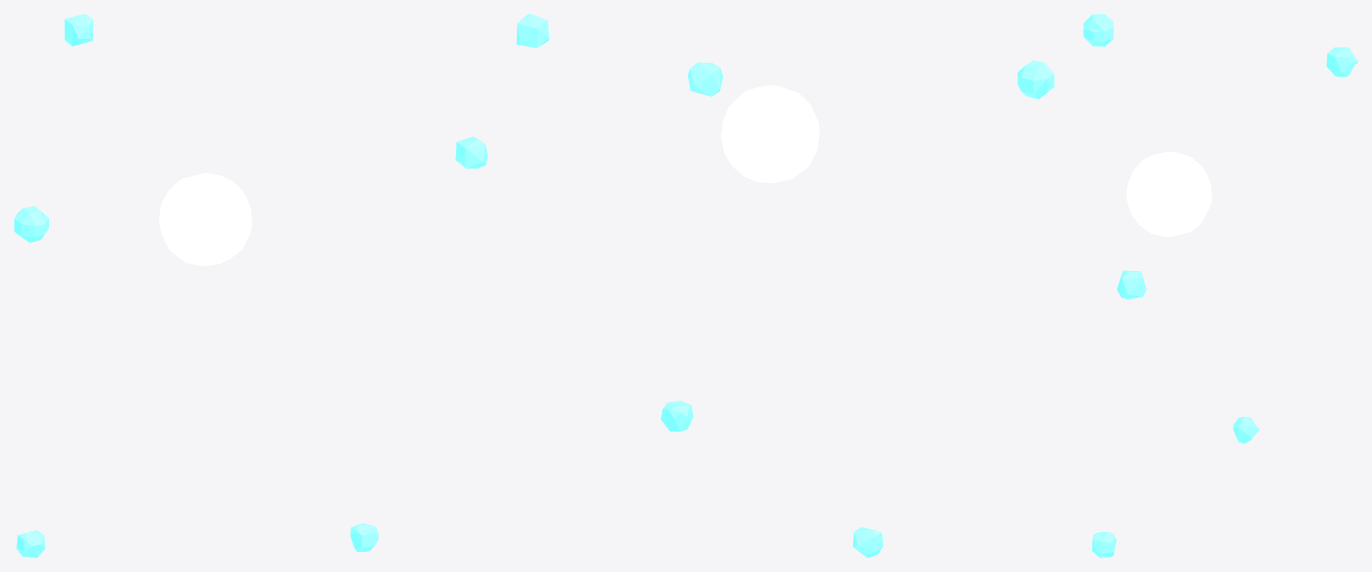
The model's file is spellbook_runes.glb.
3 views of the same model, side by side, from view 1: azimuth 30°, elevation 25°; view 2: azimuth 150°, elevation 25°; view 3: azimuth 270°, elevation 25° (orthographic). The views are drawn at different scales.
Parts seen in each view (by area): view 1: spellbook_runes; view 2: spellbook_runes; view 3: spellbook_runes.
Part boxes in pixels (bbox=[...]): spellbook_runes: bbox=[14, 14, 487, 557]; spellbook_runes: bbox=[516, 14, 1054, 557]; spellbook_runes: bbox=[1083, 14, 1357, 557].
Size of the model in its own units: 0.474 by 0.4453 by 0.2523.
